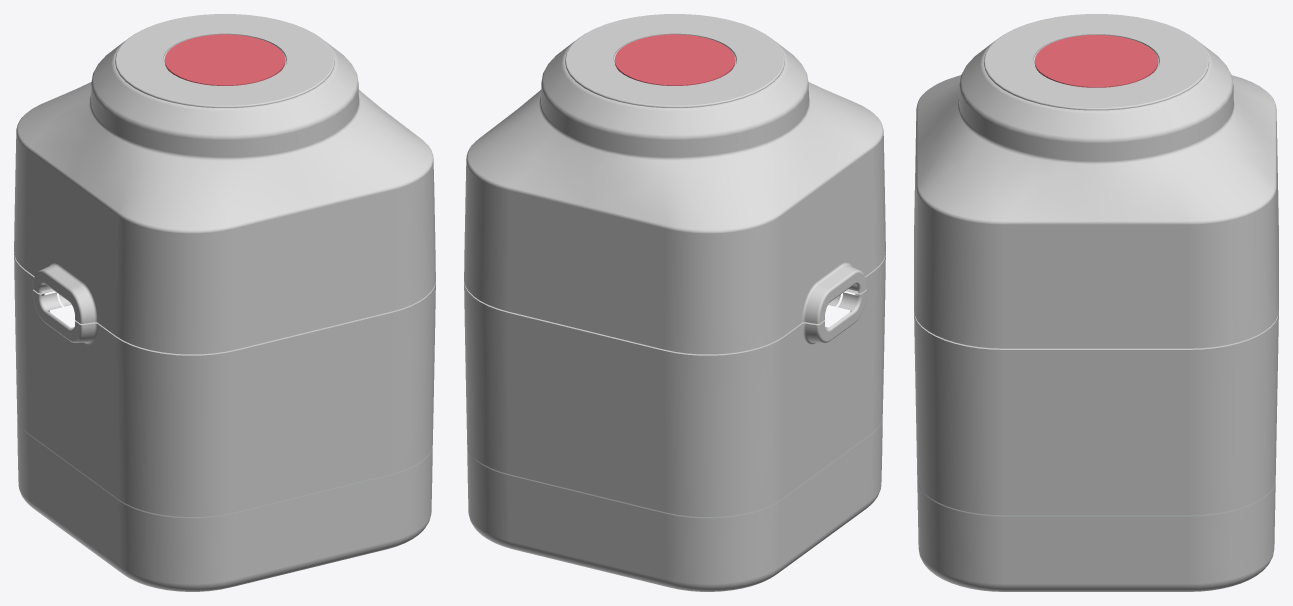
The picture shows the model from 3 angles, left to right: view 1: azimuth 30°, elevation 25°; view 2: azimuth 150°, elevation 25°; view 3: azimuth 270°, elevation 25°; orthographic projection. The views are drawn at different scales.
Visible parts, largest first — view 1: main_b2b3b2, cad_b2b4b2, cad_d22630, cad_54585a; view 2: main_b2b3b2, cad_b2b4b2, cad_d22630, cad_54585a; view 3: main_b2b3b2, cad_b2b4b2, cad_d22630, cad_54585a.
Part boxes in pixels (bbox=[...]): main_b2b3b2: bbox=[14, 14, 435, 516]; cad_b2b4b2: bbox=[17, 420, 432, 591]; cad_d22630: bbox=[164, 34, 285, 85]; cad_54585a: bbox=[17, 419, 432, 518]; main_b2b3b2: bbox=[464, 14, 885, 516]; cad_b2b4b2: bbox=[467, 420, 882, 591]; cad_d22630: bbox=[614, 34, 735, 85]; cad_54585a: bbox=[467, 419, 882, 518]; main_b2b3b2: bbox=[914, 14, 1278, 515]; cad_b2b4b2: bbox=[917, 481, 1275, 591]; cad_d22630: bbox=[1034, 35, 1158, 87]; cad_54585a: bbox=[917, 480, 1275, 516].
Bounding box in the file's own units: 26.25 × 34.95 × 25.1.
